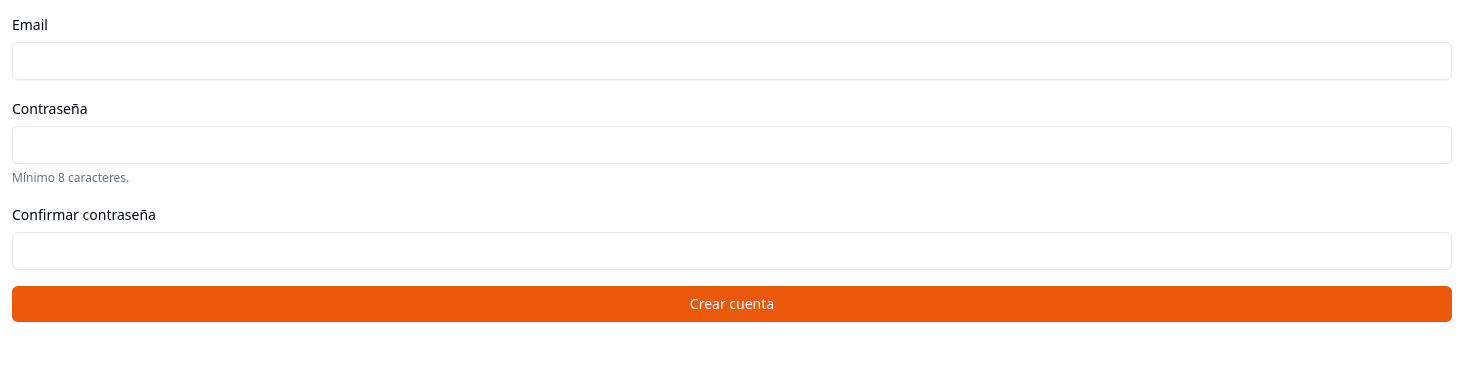
RegisterForm › rejects mismatched passwords
This screenshot has width=1464, height=376.
Type "a@b.com" into the field labelled "Email" at (732, 61), box [12,42,1452,80]
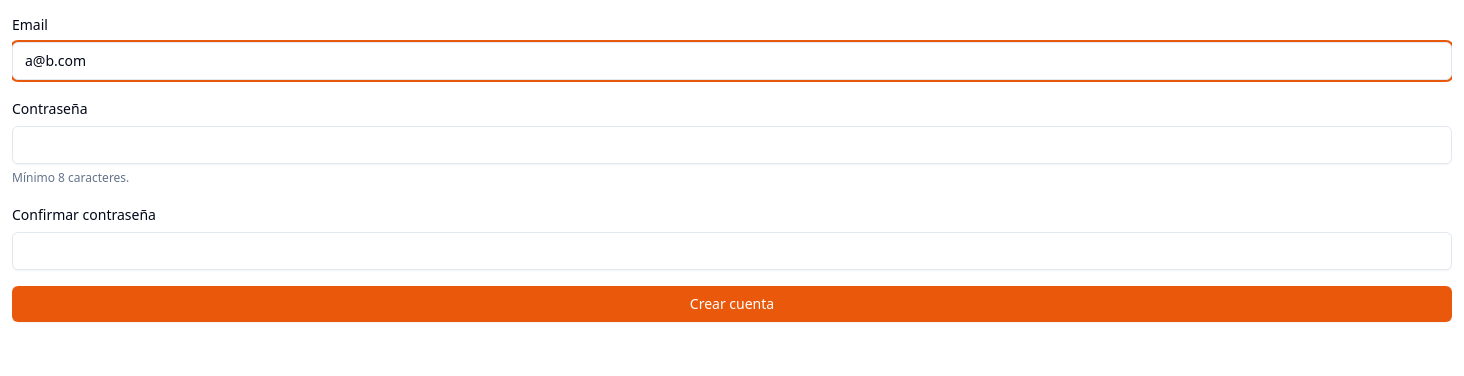
Type "pwd12345" into the password field labelled "Contraseña" at (732, 145), box [12,126,1452,164]
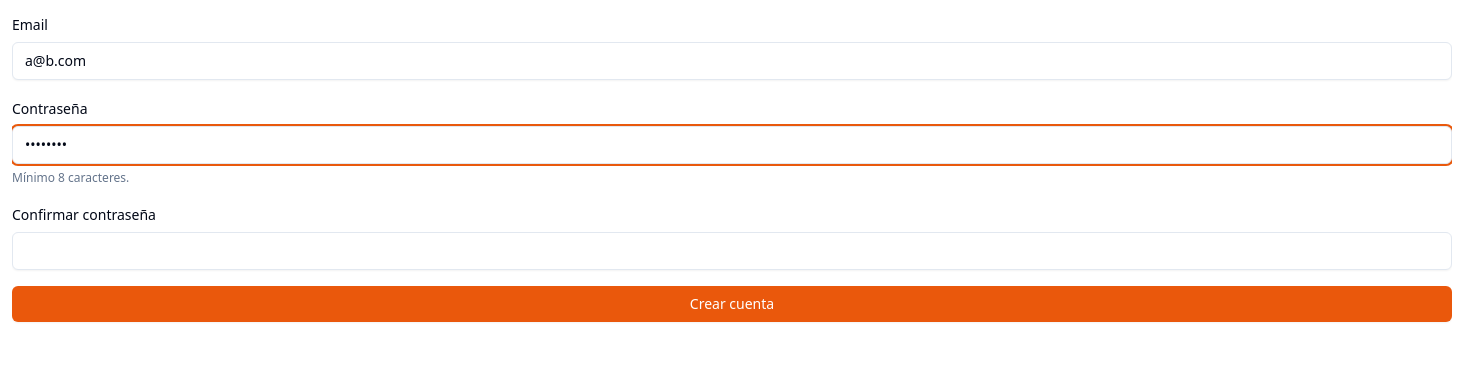
Type "pwd99999" into the password field labelled "Confirmar contraseña" at (732, 251), box [12,232,1452,270]
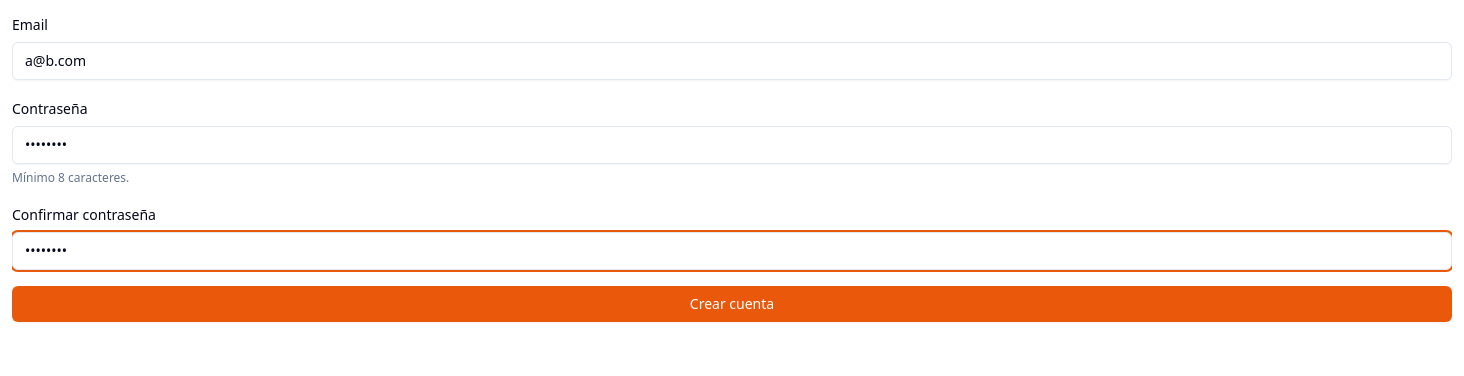
Click the button "Crear cuenta" at (732, 304), box [12,286,1452,322]
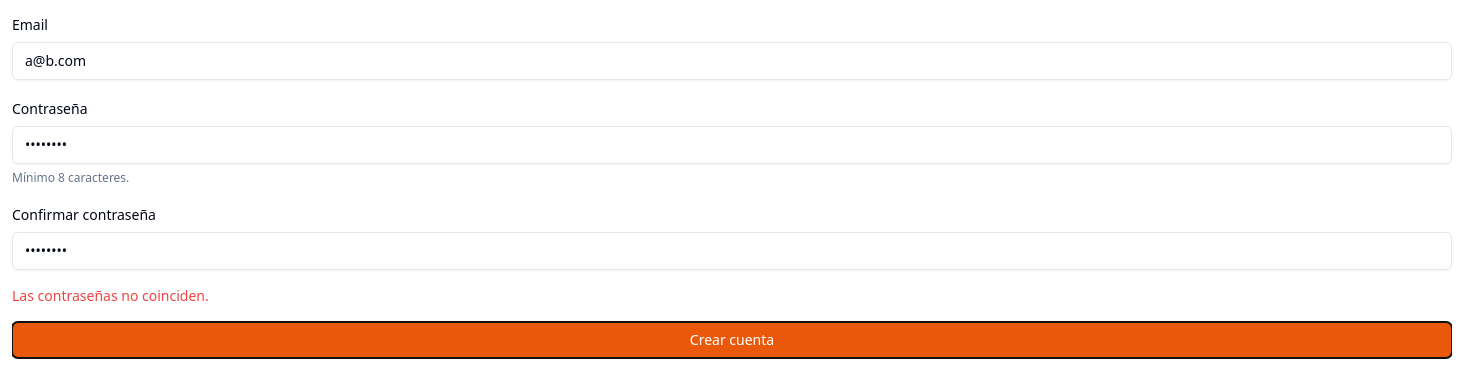
Expected: the message shows "no coinciden", [12,286,209,305]
